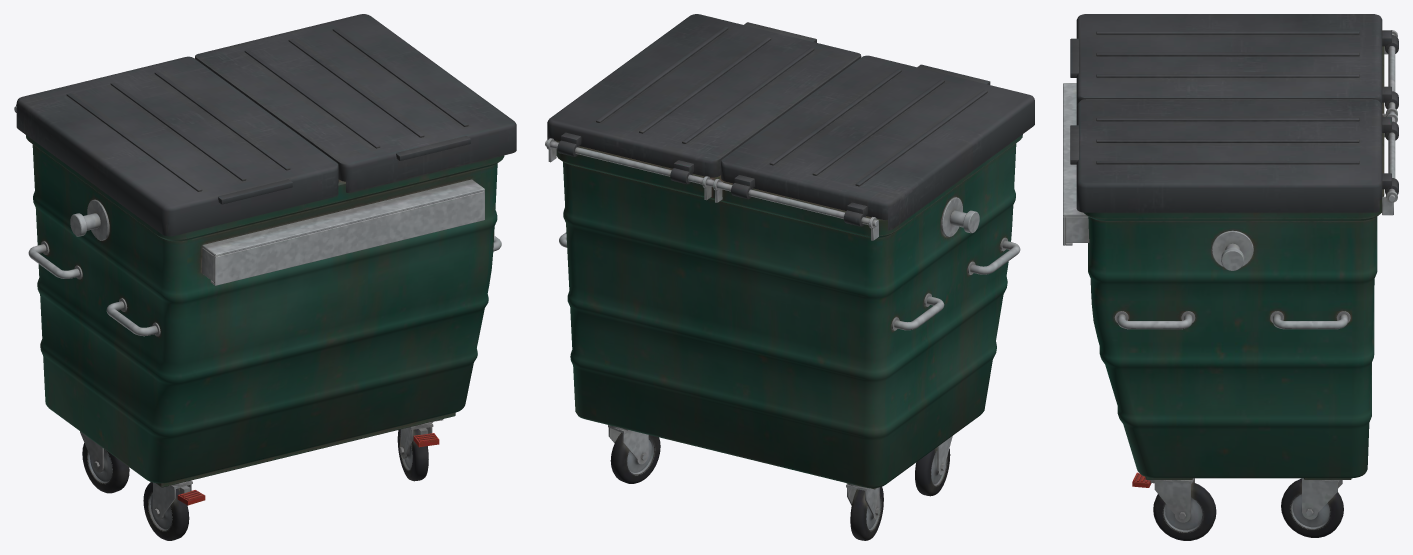
The model's file is bac-a-ordure.glb.
The picture shows the model from 3 angles, left to right: view 1: azimuth 30°, elevation 25°; view 2: azimuth 150°, elevation 25°; view 3: azimuth 270°, elevation 25°; orthographic projection. The views are drawn at different scales.
Visible parts, largest first — view 1: dumpster_body; view 2: dumpster_body; view 3: dumpster_body.
Part boxes in pixels (x1,y1,x2,y2): dumpster_body: (14, 14, 516, 540); dumpster_body: (545, 14, 1034, 540); dumpster_body: (1063, 14, 1398, 540).
Size of the model in its own units: 1.38 by 1.33 by 1.06.
1 material, 1 textured.
